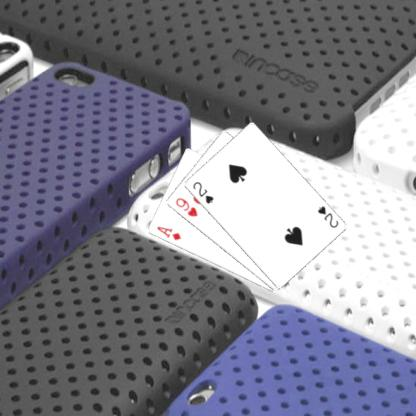2S: (314, 203, 340, 229), (190, 179, 215, 205)
9H: (172, 195, 198, 218)
AD: (154, 223, 182, 242)
